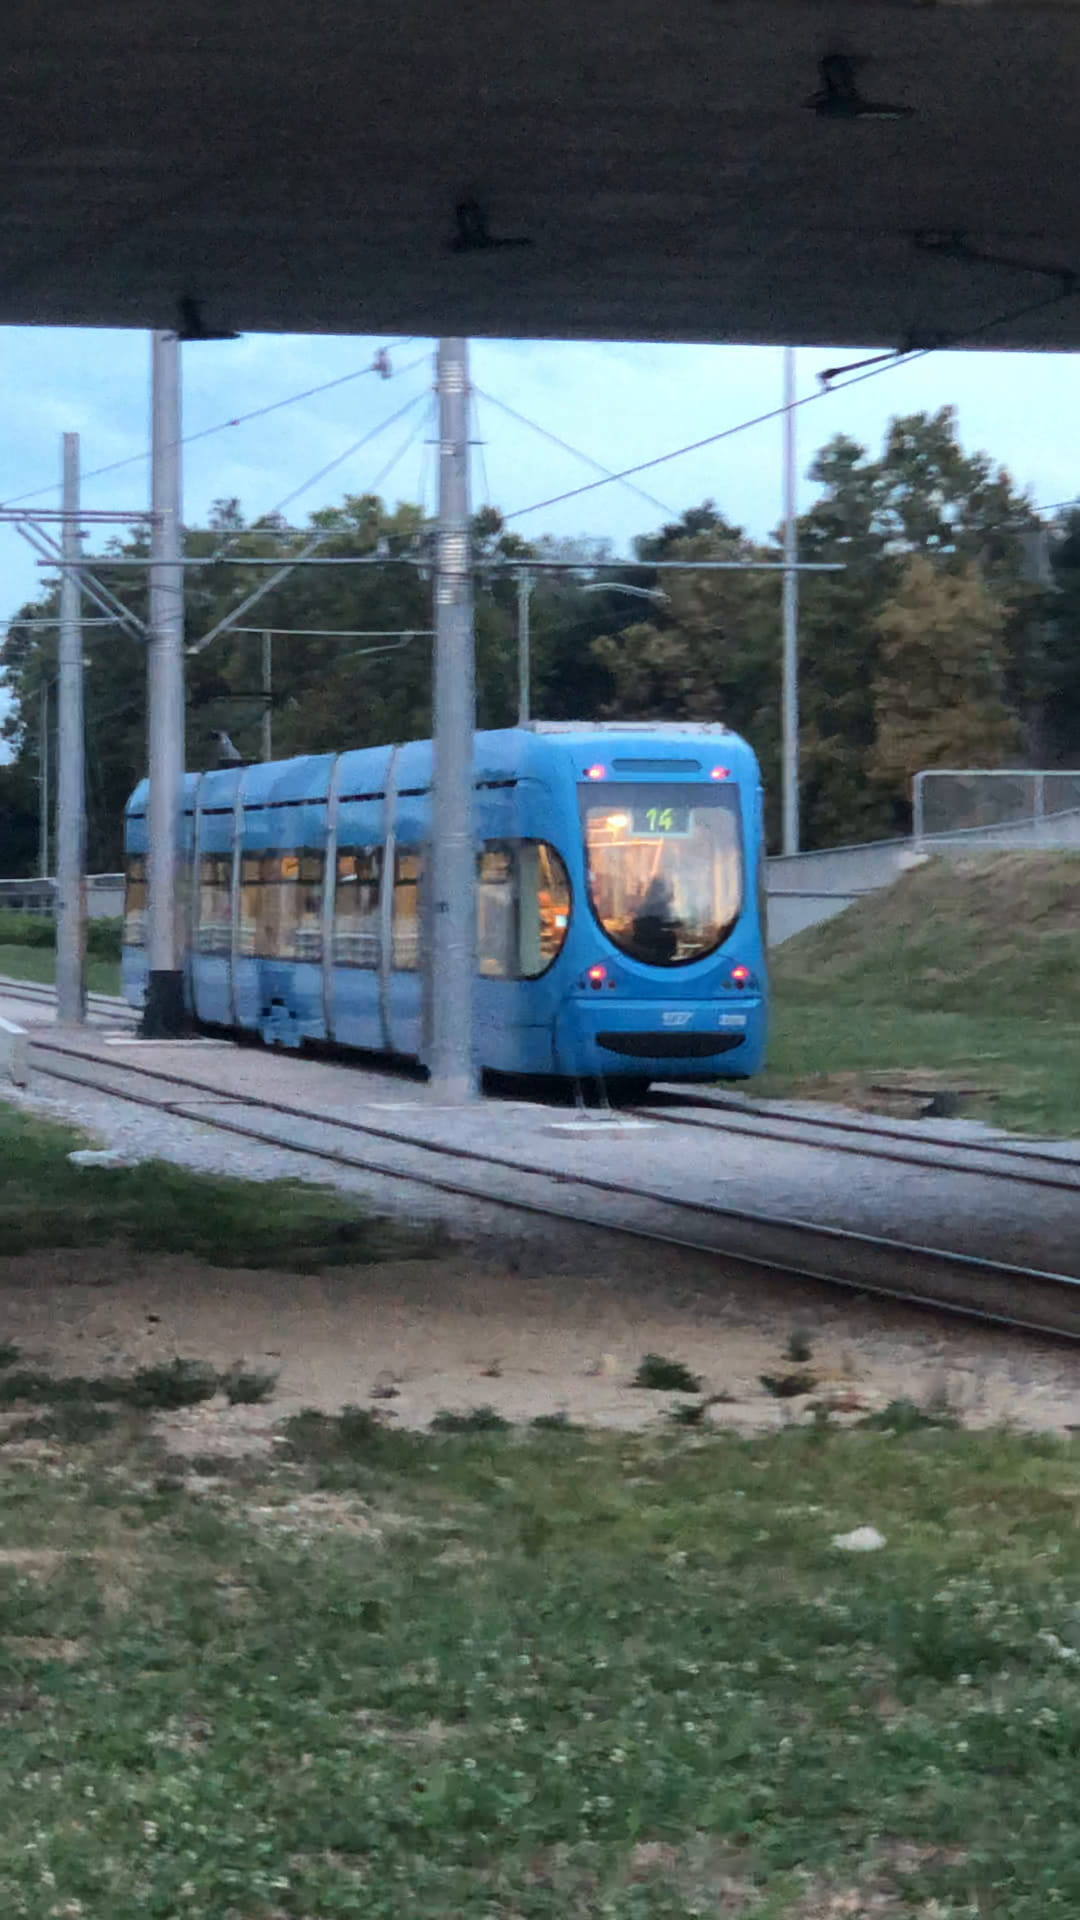tramvaj: (112, 709, 777, 1089)
